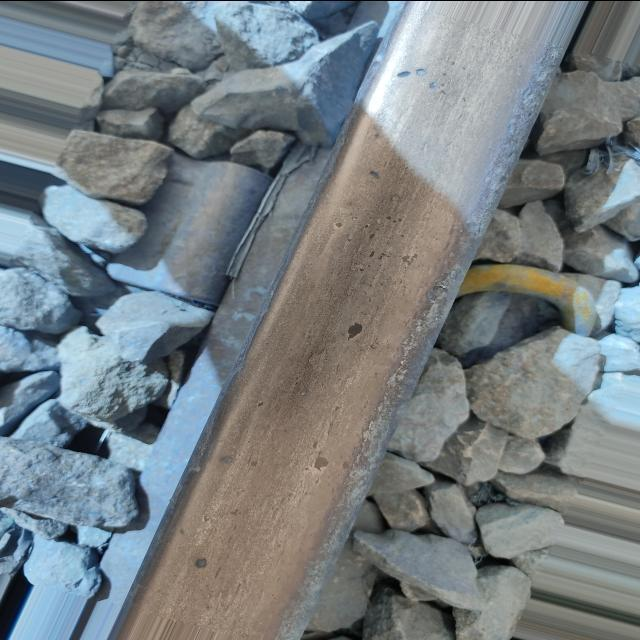squats_high: (395, 65, 443, 88), (343, 321, 367, 341), (309, 452, 331, 471), (187, 555, 212, 569), (366, 167, 385, 180)
